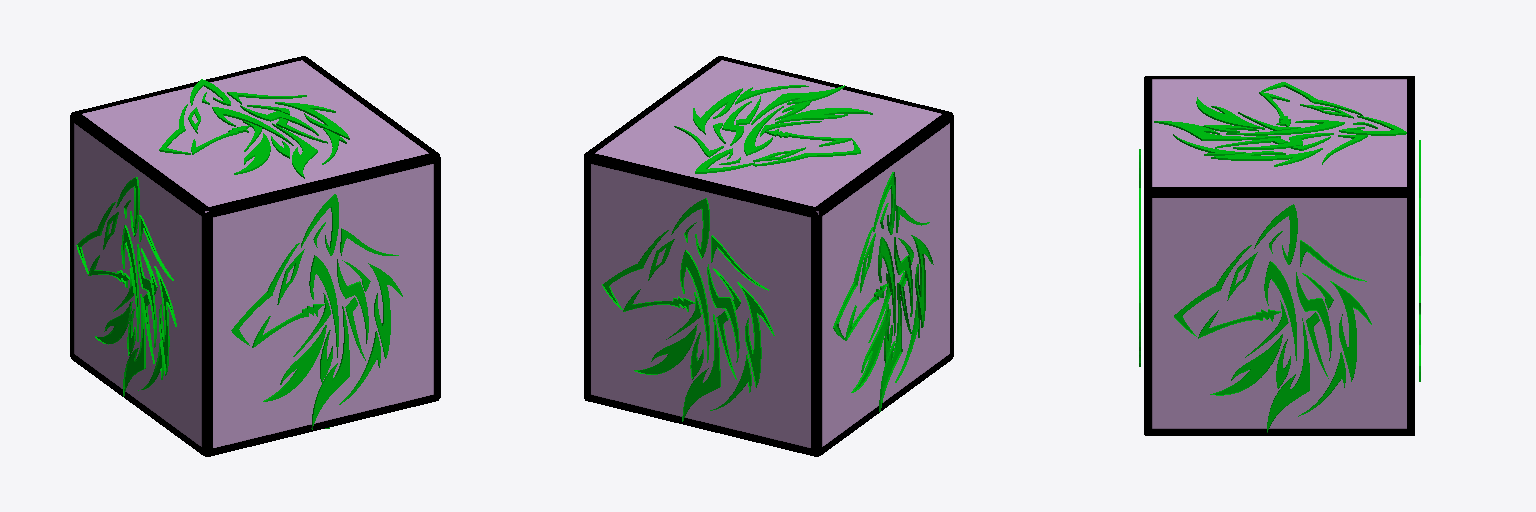
The picture shows the model from 3 angles: view 1: azimuth 30°, elevation 25°; view 2: azimuth 150°, elevation 25°; view 3: azimuth 270°, elevation 25°; orthographic projection.
Visible parts, largest first — view 1: Cube, BezierCurve.007_CUBezierCurve.009; view 2: Cube, BezierCurve.007_CUBezierCurve.009; view 3: Cube, BezierCurve.007_CUBezierCurve.009.
Part boxes in pixels (x1,y1,x2,y2): Cube: (70, 56, 440, 456); BezierCurve.007_CUBezierCurve.009: (76, 79, 402, 429); Cube: (584, 56, 953, 456); BezierCurve.007_CUBezierCurve.009: (602, 85, 933, 421); Cube: (1144, 76, 1414, 435); BezierCurve.007_CUBezierCurve.009: (1139, 82, 1420, 432).
Bounding box in the file's own units: 1.05 × 1.04 × 1.04.
Materials: 2 (1 with a texture image).